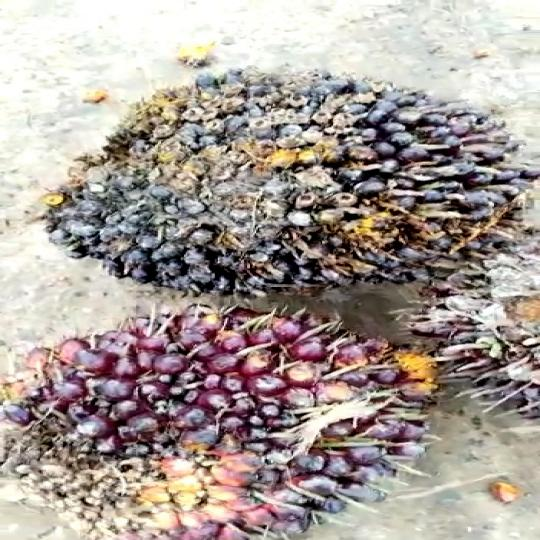kurang masak: (0, 308, 485, 540), (20, 66, 526, 285)
